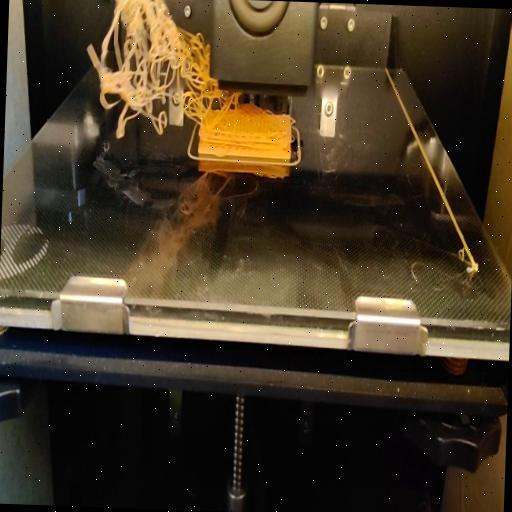spaghetti: (90, 18, 214, 144)
